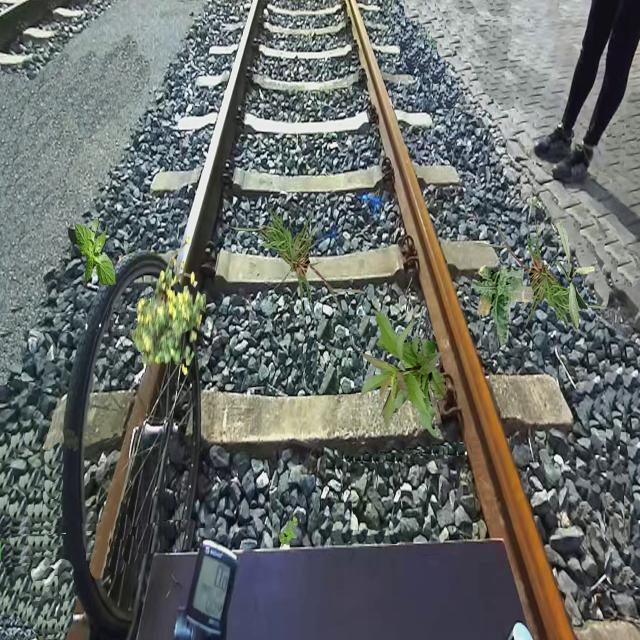Plant: (473, 212, 616, 332), (222, 205, 366, 324), (358, 311, 446, 441), (131, 236, 206, 376), (471, 265, 534, 348), (555, 220, 595, 330), (75, 217, 116, 288), (279, 516, 298, 548)
